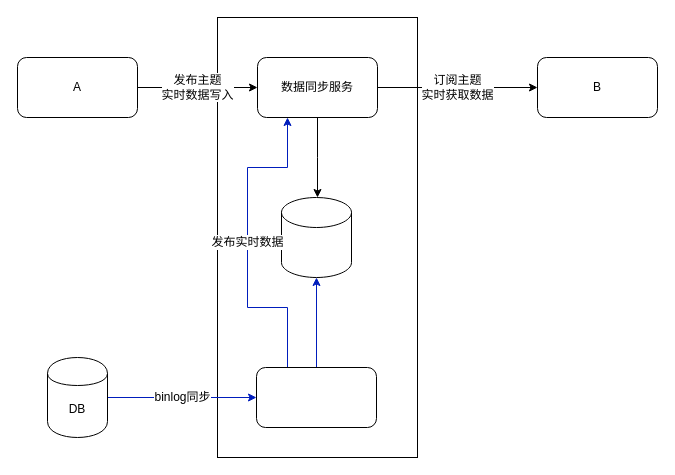
Some shapes in this 675 by 475 pixel diagram are drawn without their labels. The shapes that lost their labels are listed below. From the top down, each one's centre as x and y in pixels, then its label:
At (316,237): "存储".
At (316,397): "数据拉取服务".
